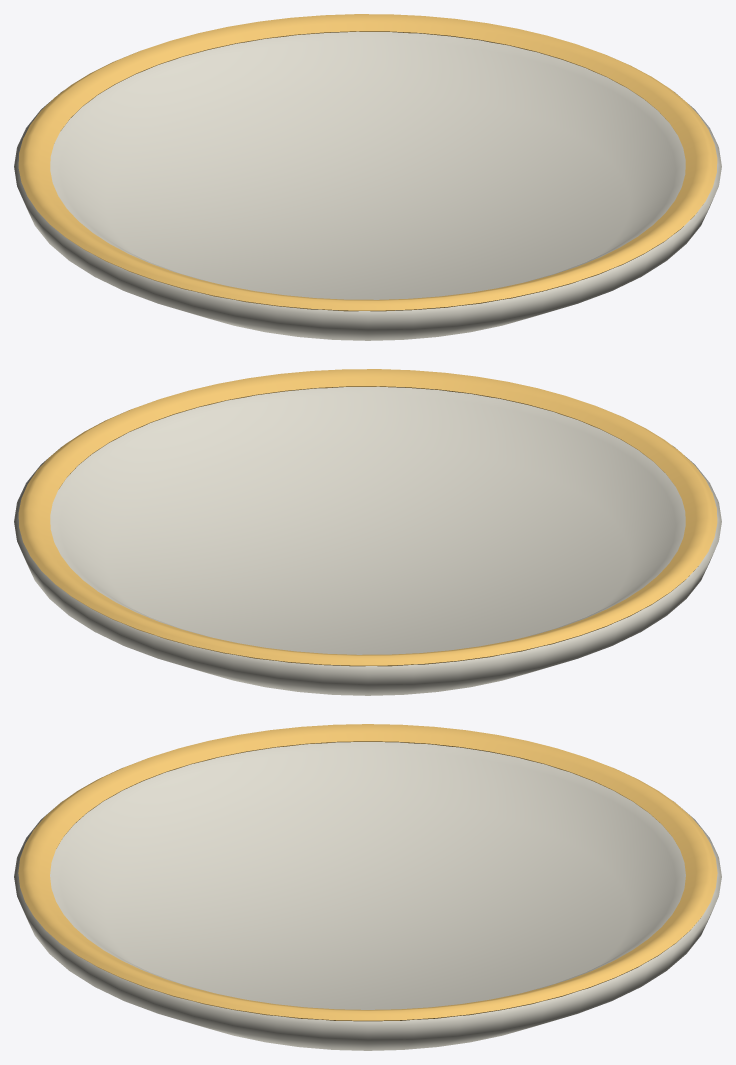
The model's file is PLATE.glb.
3 views of the same model, one above another, from view 1: azimuth 30°, elevation 25°; view 2: azimuth 150°, elevation 25°; view 3: azimuth 270°, elevation 25° (orthographic).
Visible parts, largest first — view 1: PLATE; view 2: PLATE; view 3: PLATE.
Boxes of the visible parts, box(x1,y1,x2,y2) form: PLATE: box(14, 14, 721, 340); PLATE: box(14, 369, 721, 695); PLATE: box(14, 724, 721, 1050).
Size of the model in its own units: 0.54 by 0.0737 by 0.54.
